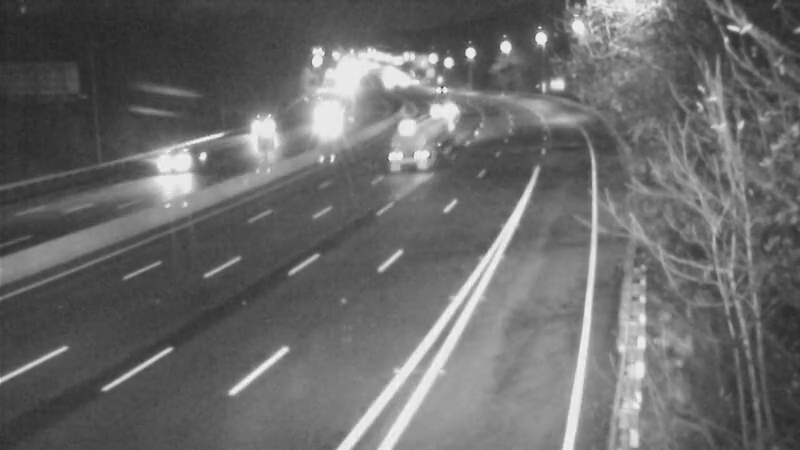vehicle: (134, 125, 214, 205), (407, 79, 457, 129), (372, 121, 422, 171), (239, 107, 289, 157), (293, 105, 343, 155)
